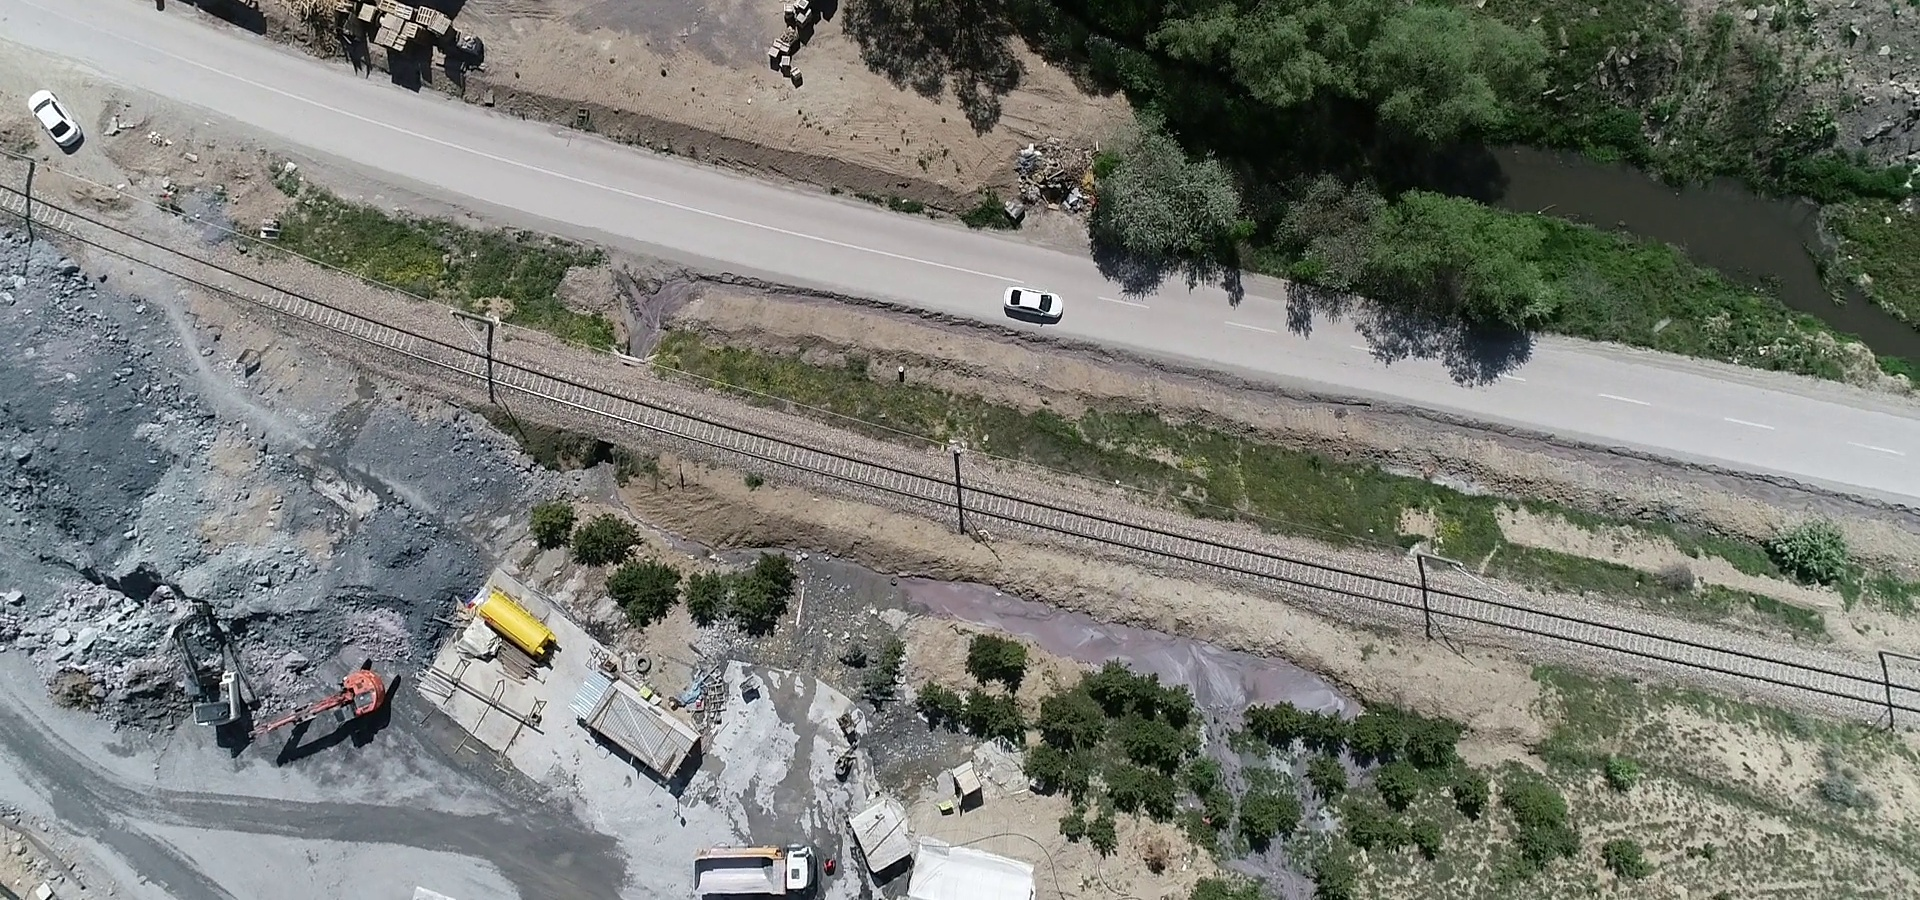arac: (260, 645, 410, 753), (169, 595, 276, 737), (691, 842, 831, 900), (21, 78, 84, 162), (1000, 283, 1069, 329)
